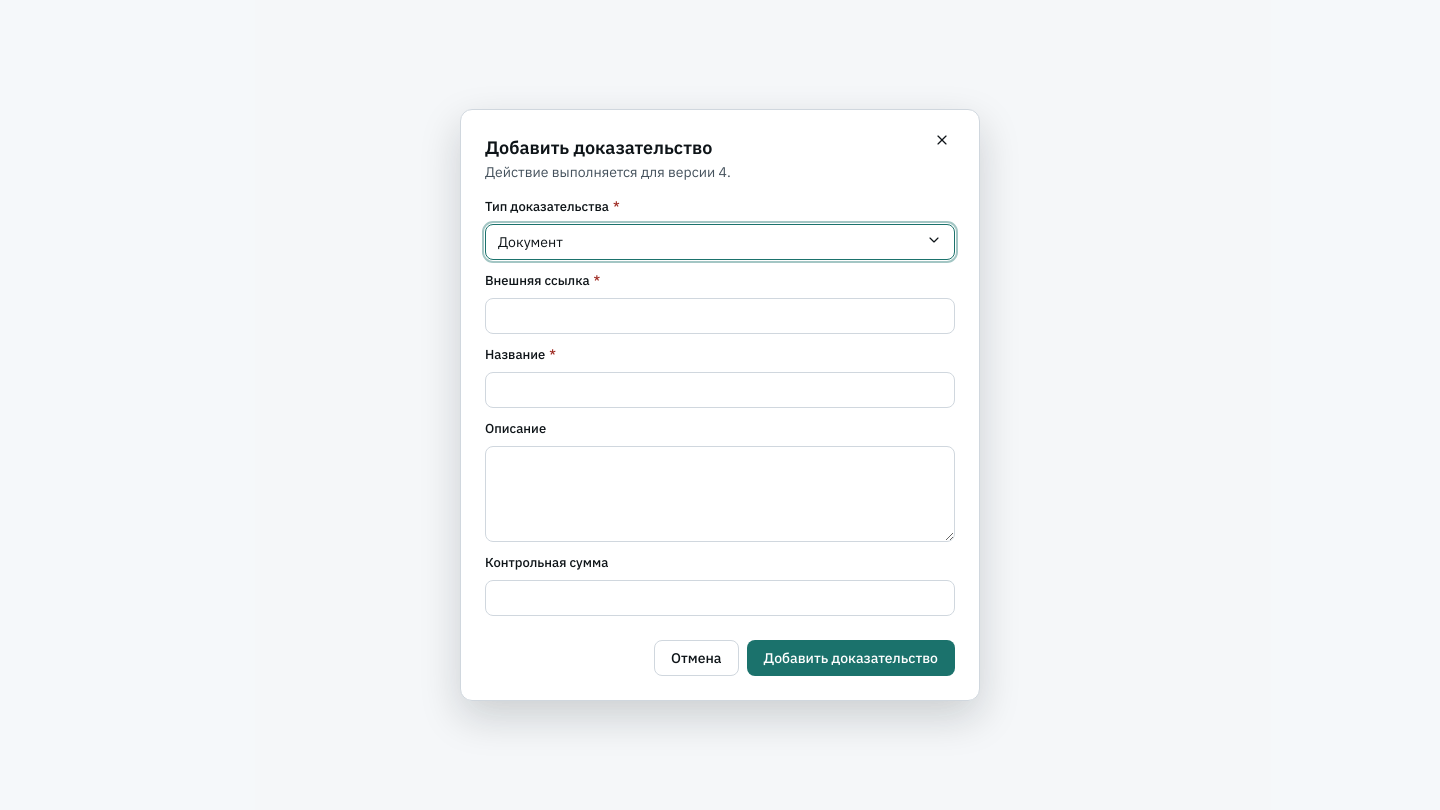
EvidenceForm › blocks submit with a field error when the external reference is blank
In the field labelled "Название*": (720, 390) [485,372,955,408], type "Install photo"
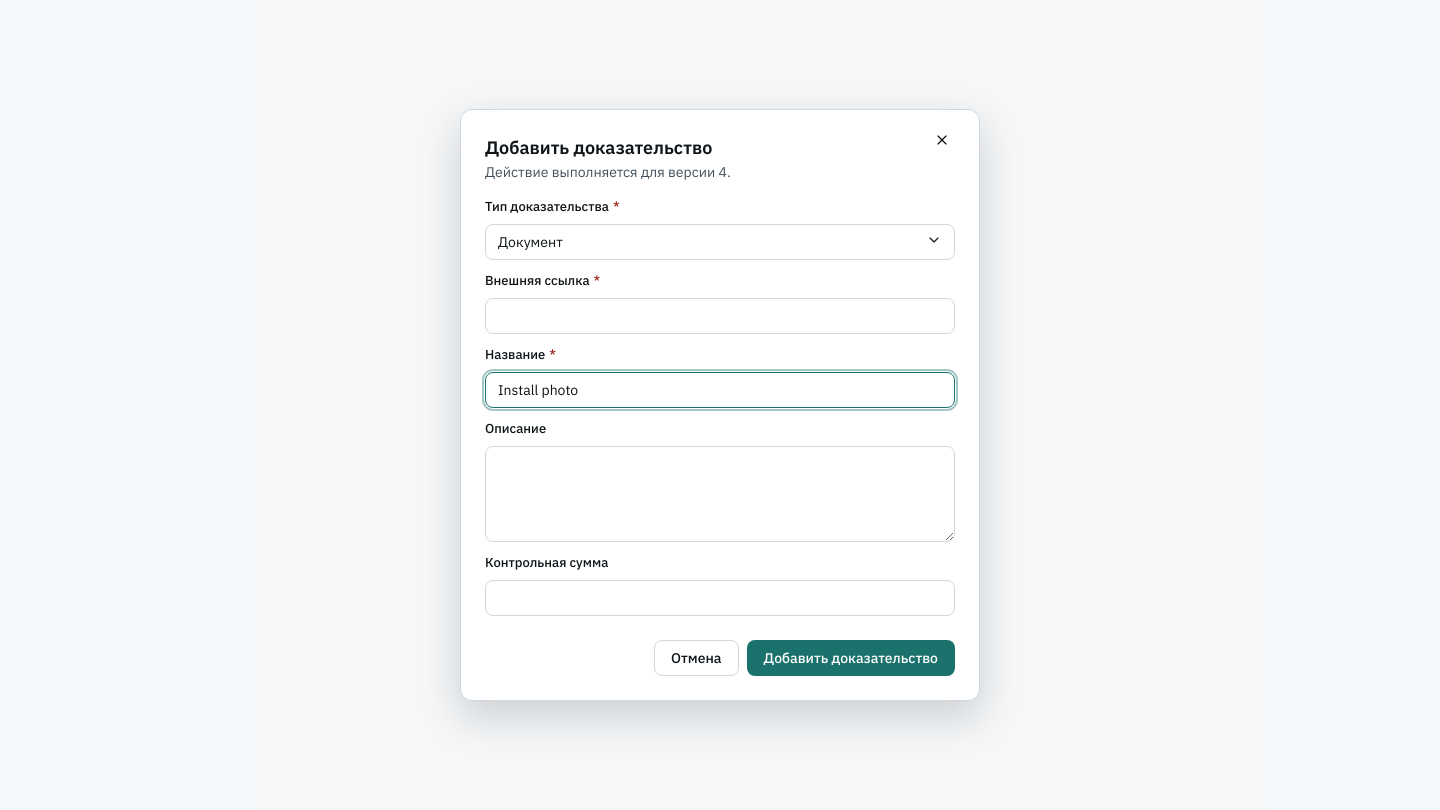
Click the button "Добавить доказательство": (851, 658) [747,640,955,676]
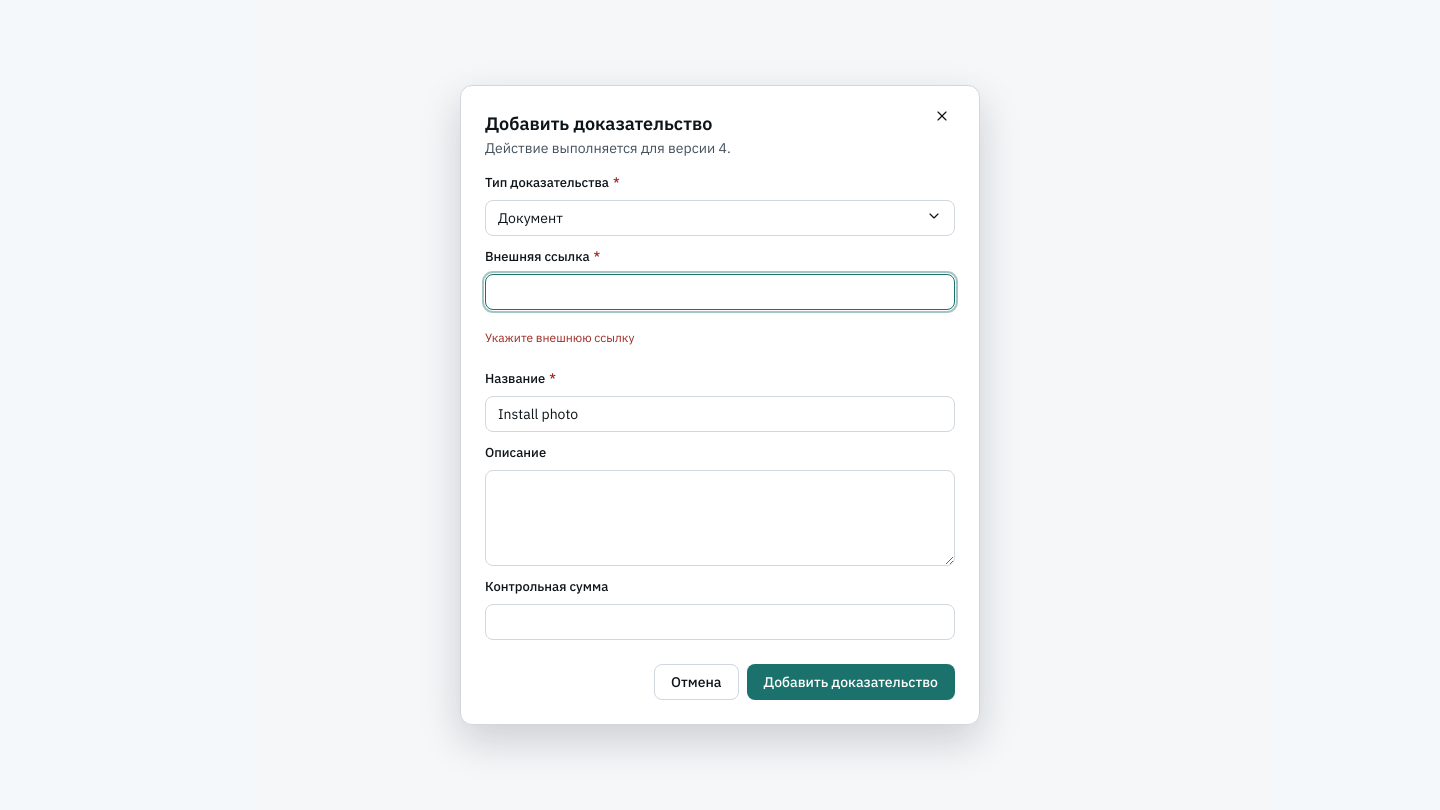
Now the text "Укажите внешнюю ссылку" is shown, box [485,330,634,345]
